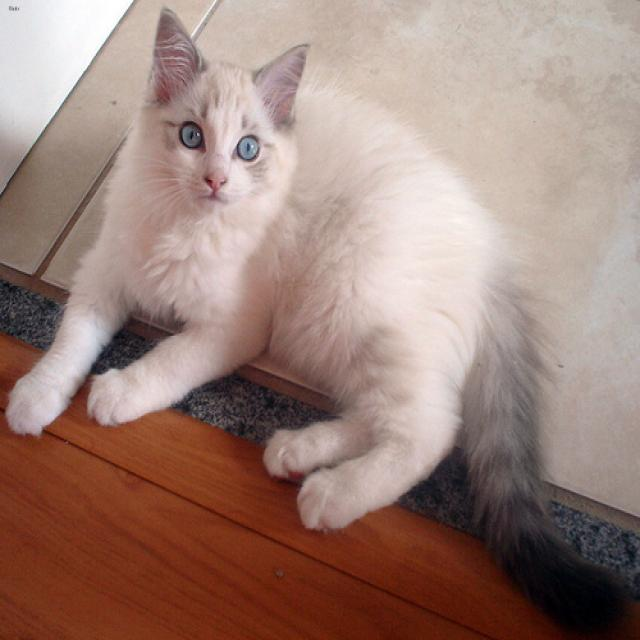cat: (146, 6, 306, 212)
